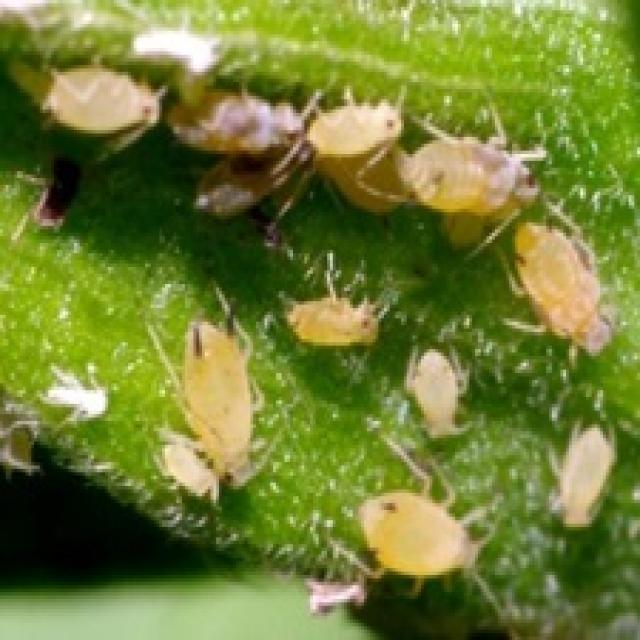Aphids: (12, 32, 632, 369), (68, 243, 627, 512)
